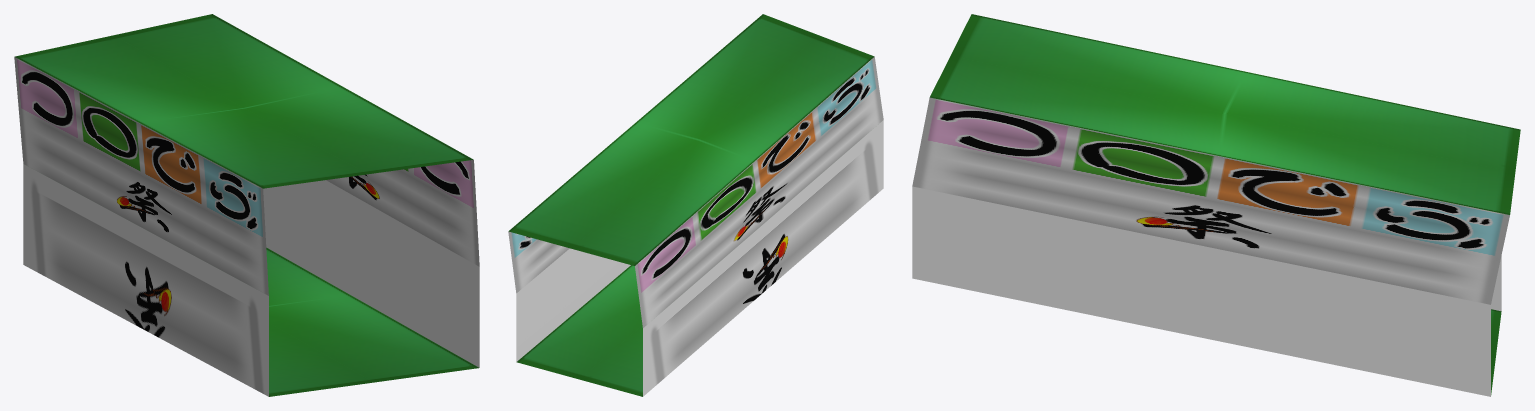
File: CourseSummer_Concave_2_5.fbx
3 views of the same model, side by side, from view 1: azimuth 30°, elevation 25°; view 2: azimuth 150°, elevation 25°; view 3: azimuth 270°, elevation 25° (orthographic). The views are drawn at different scales.
Visible parts, largest first — view 1: polySurface275; view 2: polySurface275; view 3: polySurface275.
Part boxes in pixels (<box>): polySurface275: <box>14,14,479,396</box>; polySurface275: <box>508,14,883,396</box>; polySurface275: <box>912,14,1520,396</box>.
Size of the model in its own units: 2.58 by 2.98 by 5.99.
Materials: 1 (1 with a texture image).
